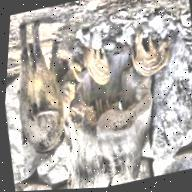boar: (1, 21, 84, 177), (118, 17, 184, 90), (76, 38, 111, 95)
